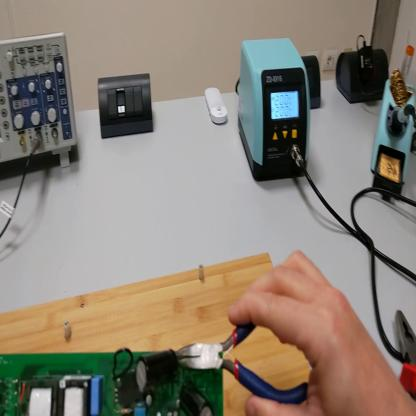hand: (226, 252, 406, 416)
high voltage board: (1, 348, 222, 416)
oscilloscope: (3, 29, 79, 186)
pliers: (175, 284, 310, 405), (396, 304, 416, 398)
socket: (338, 49, 391, 107), (302, 58, 324, 110)
welder base: (371, 41, 415, 208)
welder probe tip: (391, 95, 410, 147)
welder station: (237, 40, 314, 184)
working area: (1, 252, 314, 416)
